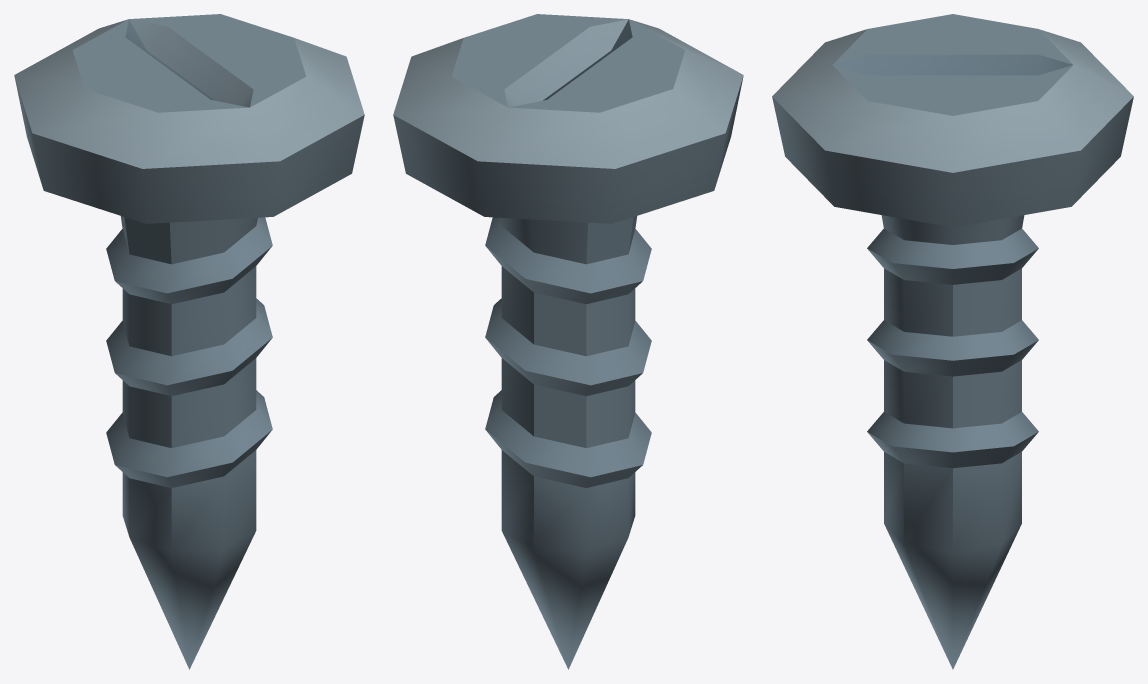
File: screw_A.obj
3 renders of one model, left to right at view 1: azimuth 30°, elevation 25°; view 2: azimuth 150°, elevation 25°; view 3: azimuth 270°, elevation 25°, orthographic.
Visible parts, largest first — view 1: screw_A; view 2: screw_A; view 3: screw_A.
Boxes of the visible parts, x1,y1,x2,y2 form: screw_A: (14,14,364,669); screw_A: (393,14,743,669); screw_A: (772,14,1133,669).
Size of the model in its own units: 0.1589 by 0.2931 by 0.1589.
Materials: 1 (1 with a texture image).
